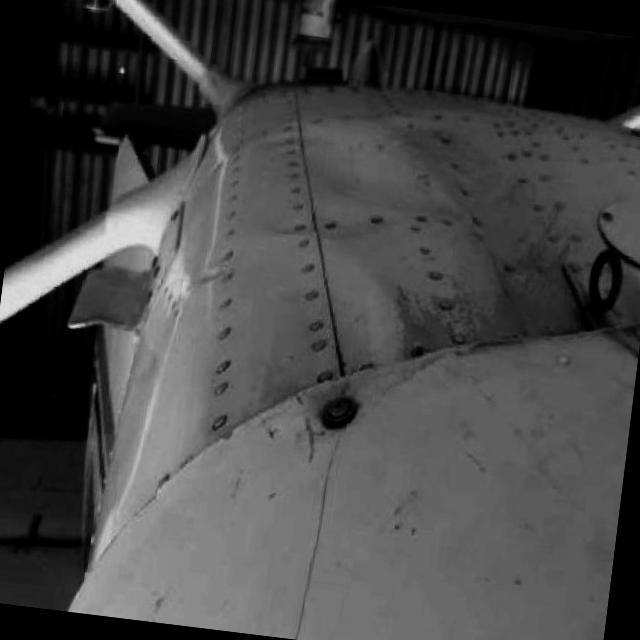dent: (282, 243, 418, 415), (298, 115, 438, 234)
